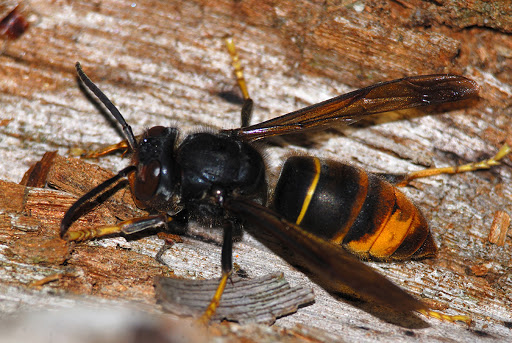hornet: (79, 86, 475, 307)
